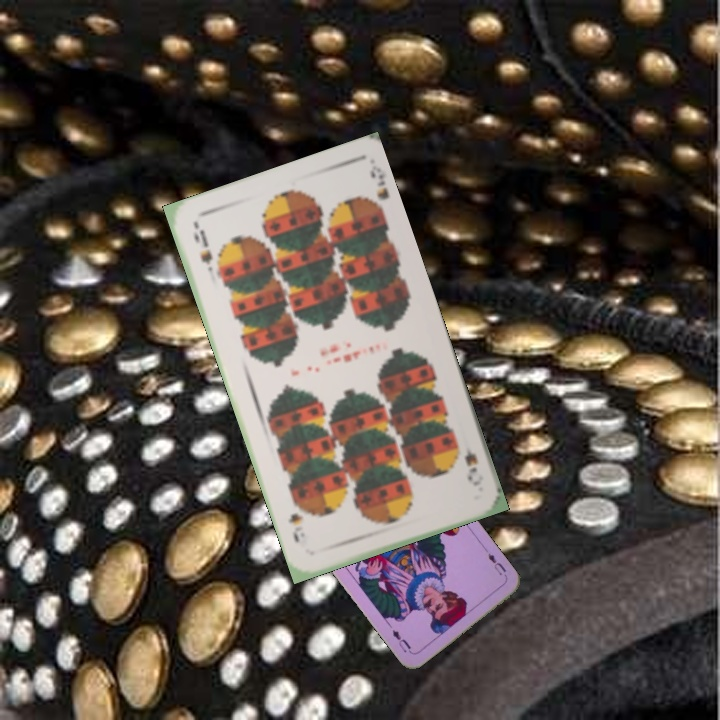EU: (484, 549, 510, 581)
S9: (189, 226, 215, 279), (460, 443, 487, 489)
